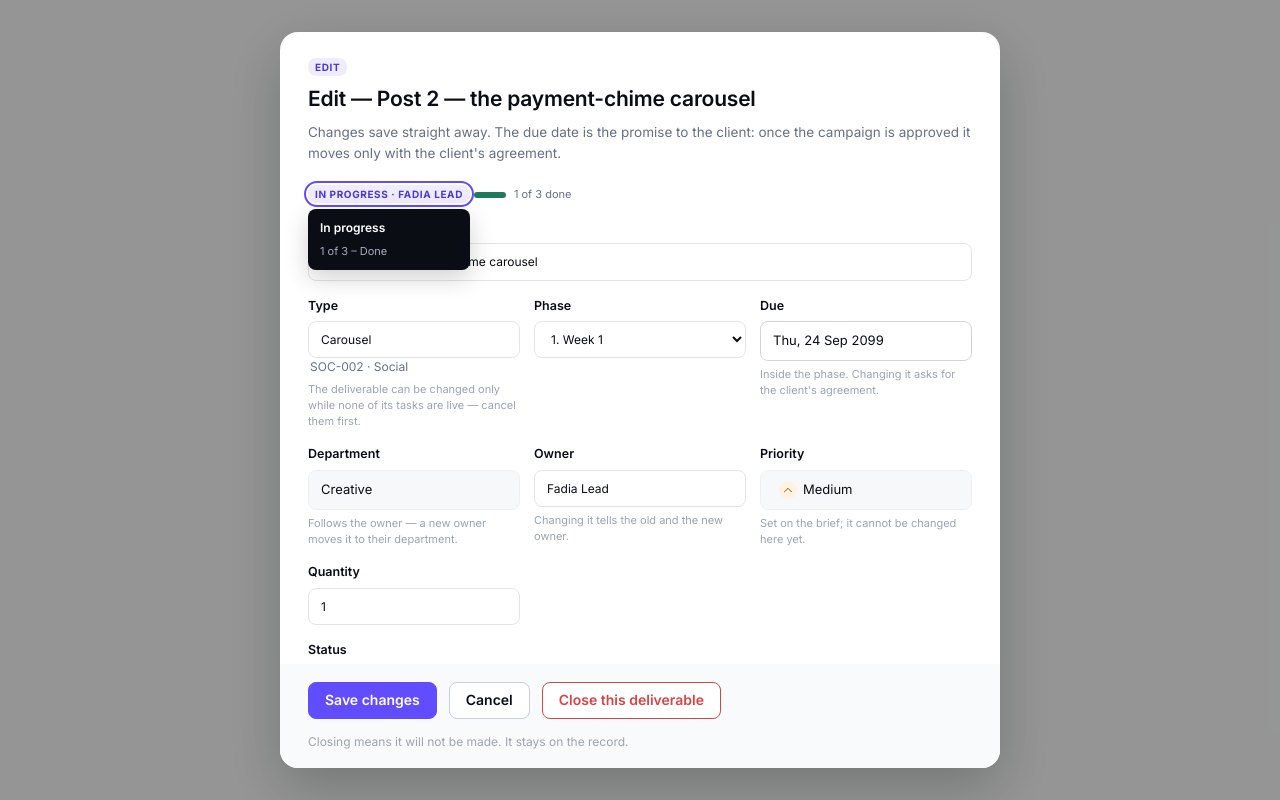
Test: EditPieceDialog — CG-E1 (I57.11) › a piece whose department has no lead offers every lead, and says where a new owner moves it
This screenshot has width=1280, height=800.
Replace the text in the dropdown with test id "campaign-deliverable-form-owner" with "Omar" at coordinates (640, 488), box left=534, top=470, right=746, bottom=507
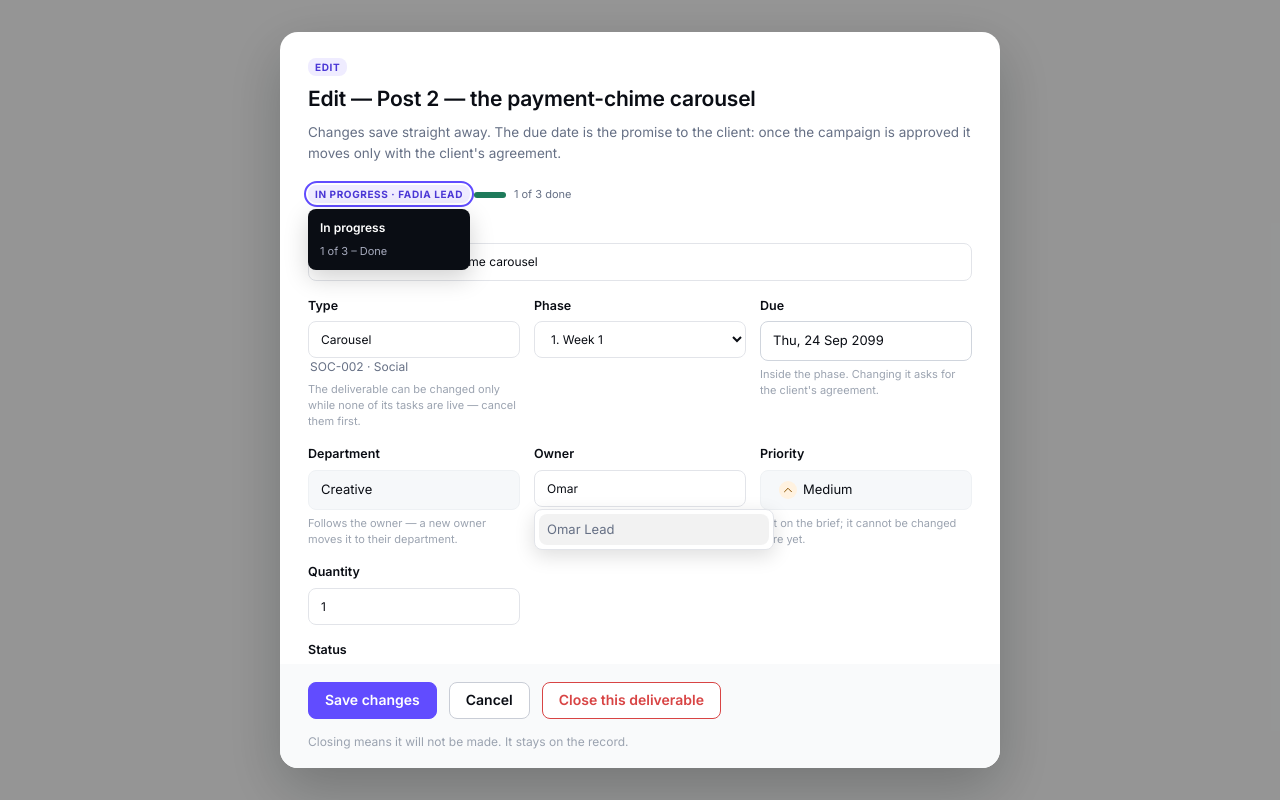
Press the mouse on the option "Omar Lead" at coordinates (654, 529), box left=539, top=514, right=769, bottom=545
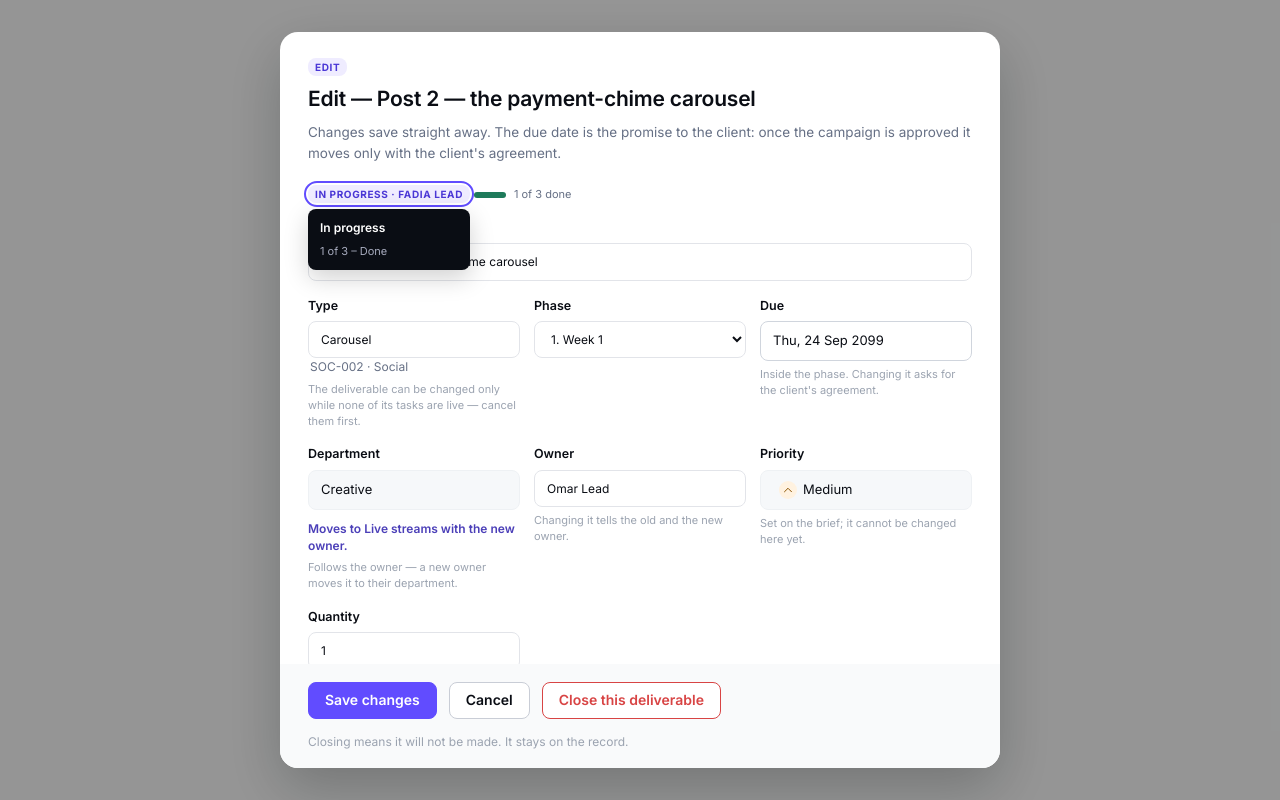
expect the text with test id "campaign-deliverable-form-department-moves" reads "Moves to Live streams with the new owner.": met, box left=308, top=521, right=515, bottom=553
